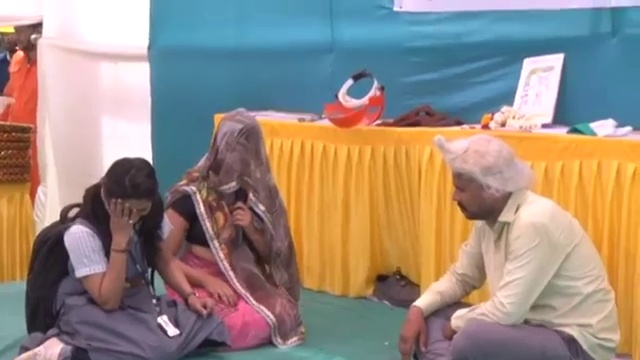helmet_off: (436, 139, 527, 227), (91, 156, 160, 232), (204, 113, 263, 185), (10, 11, 40, 48)
person: (396, 140, 626, 360), (12, 157, 192, 360), (158, 110, 299, 351), (0, 8, 45, 124)
